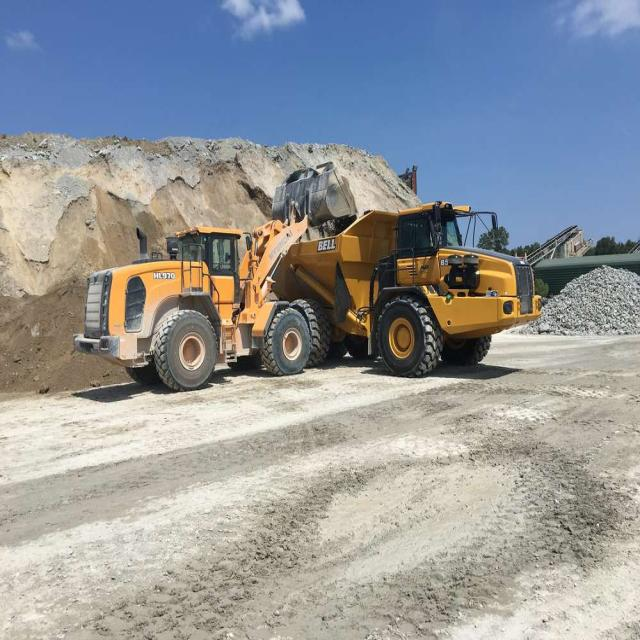buldozerpayloadergrader: (65, 127, 352, 393)
dump_truck: (304, 182, 543, 374)
